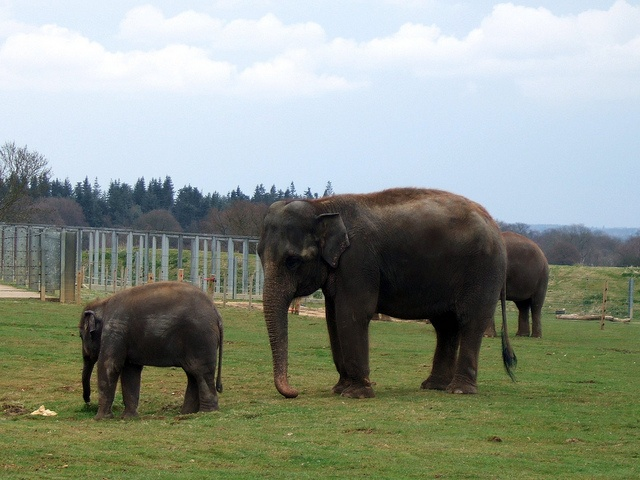elephant: (387, 291, 640, 480), (153, 350, 303, 480), (526, 285, 572, 389)
